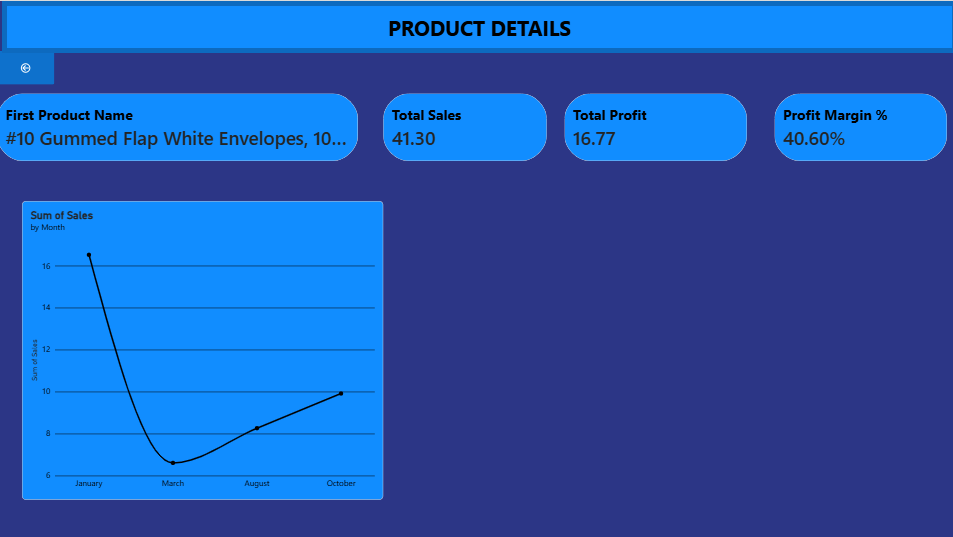

What the dashboard file says about the page in this screenshot:
{"tool":"powerbi","page":{"name":"Product Details","canvas":[1920,1080],"ordinal":3},"visuals":[{"type":"actionButton","box":[0,100,115,67.5],"z":0},{"type":"shape","box":[10,0,1910,104],"z":1},{"type":"cardVisual","fields":{"Data":["Min(Fact_Sales.Product Name)"]},"box":[0,185,722.5,135],"z":2},{"type":"cardVisual","fields":{"Data":["Dim_Date.Total Sales"]},"box":[772.5,185,327.5,135],"z":3},{"type":"cardVisual","fields":{"Data":["Dim_Date.Total Profit"]},"box":[1135,185,365,135],"z":4},{"type":"cardVisual","fields":{"Data":["Dim_Date.Profit Margin %"]},"box":[1555,185,345,135],"z":5},{"type":"lineChart","fields":{"Category":["Dim_Date.Month"],"Y":["Sum(Fact_Sales.Sales)"]},"box":[50,400,722.5,597.5],"z":6}]}

Visuals, with their boxes in screenshot pixels (x1, y1, x2, y2), scaled from the page's 1920x1080 canvas onto the 953x537 screenshot:
actionButton: x1=0, y1=50, x2=57, y2=83
shape: x1=5, y1=0, x2=952, y2=52
cardVisual - Min(Fact_Sales.Product Name): x1=0, y1=92, x2=359, y2=159
cardVisual - Dim_Date.Total Sales: x1=383, y1=92, x2=546, y2=159
cardVisual - Dim_Date.Total Profit: x1=563, y1=92, x2=745, y2=159
cardVisual - Dim_Date.Profit Margin %: x1=772, y1=92, x2=943, y2=159
lineChart - Dim_Date.Month x Sum(Fact_Sales.Sales): x1=25, y1=199, x2=383, y2=496
